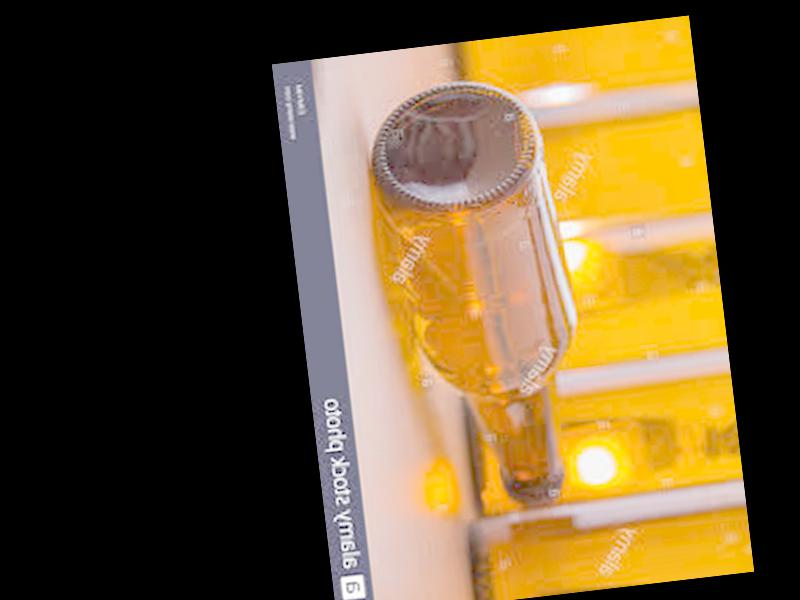Beer: (354, 70, 599, 515)
